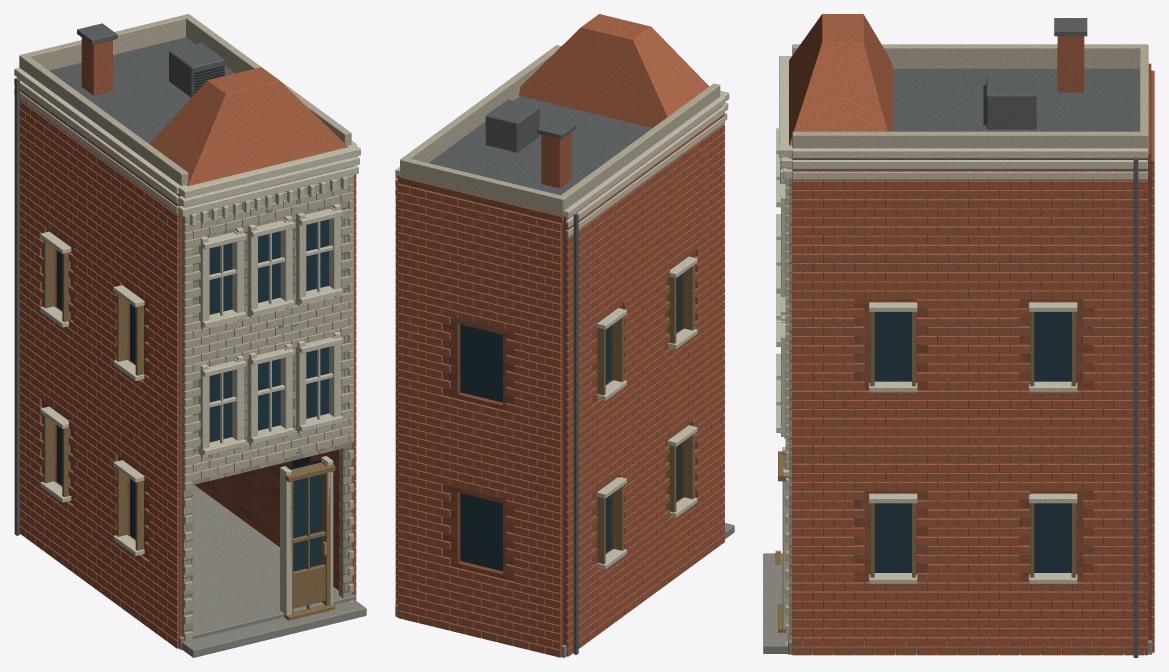
The model's file is VICT33_lod0.glb.
3 renders of one model, left to right at view 1: azimuth 30°, elevation 25°; view 2: azimuth 150°, elevation 25°; view 3: azimuth 270°, elevation 25°, orthographic. The views are drawn at different scales.
Visible parts, largest first — view 1: VICT33_LOD0; view 2: VICT33_LOD0; view 3: VICT33_LOD0.
Part boxes in pixels (x1,y1,x2,y2): VICT33_LOD0: (14, 14, 366, 657); VICT33_LOD0: (395, 14, 734, 657); VICT33_LOD0: (763, 14, 1154, 657).
Bounding box in the file's own units: 4.11 × 10.8 × 6.6.
Materials: 17 (14 with a texture image).
